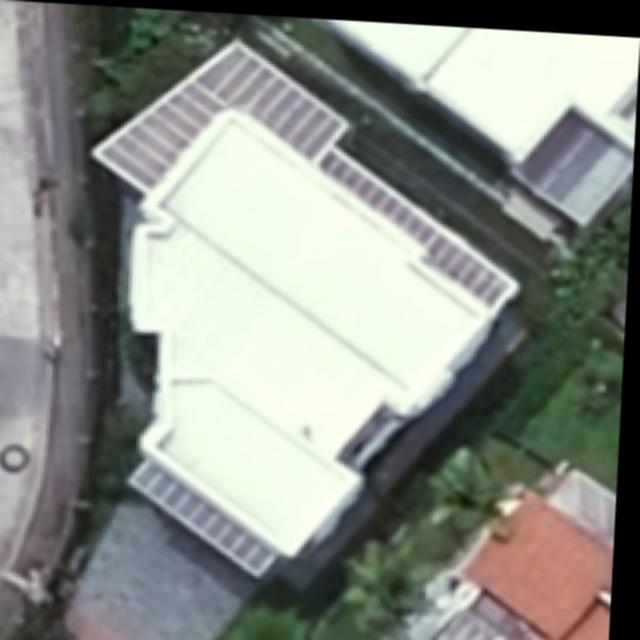Batiment: (95, 37, 521, 572), (324, 16, 638, 217), (468, 464, 620, 640)
